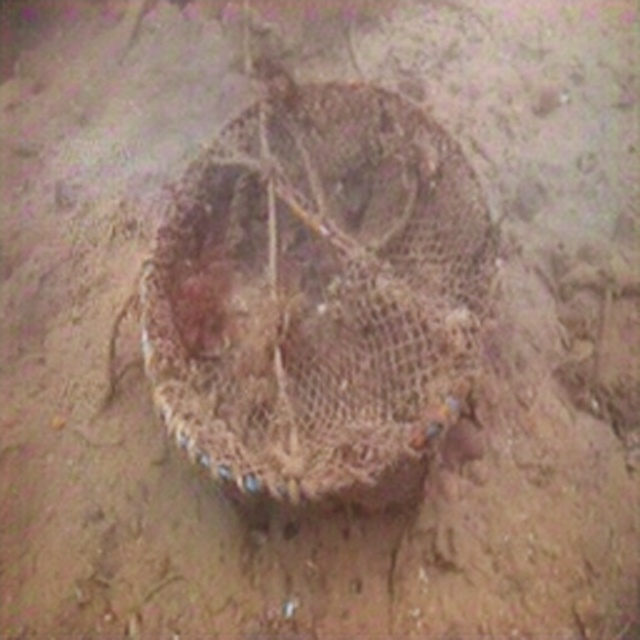mine: (138, 74, 502, 503)
